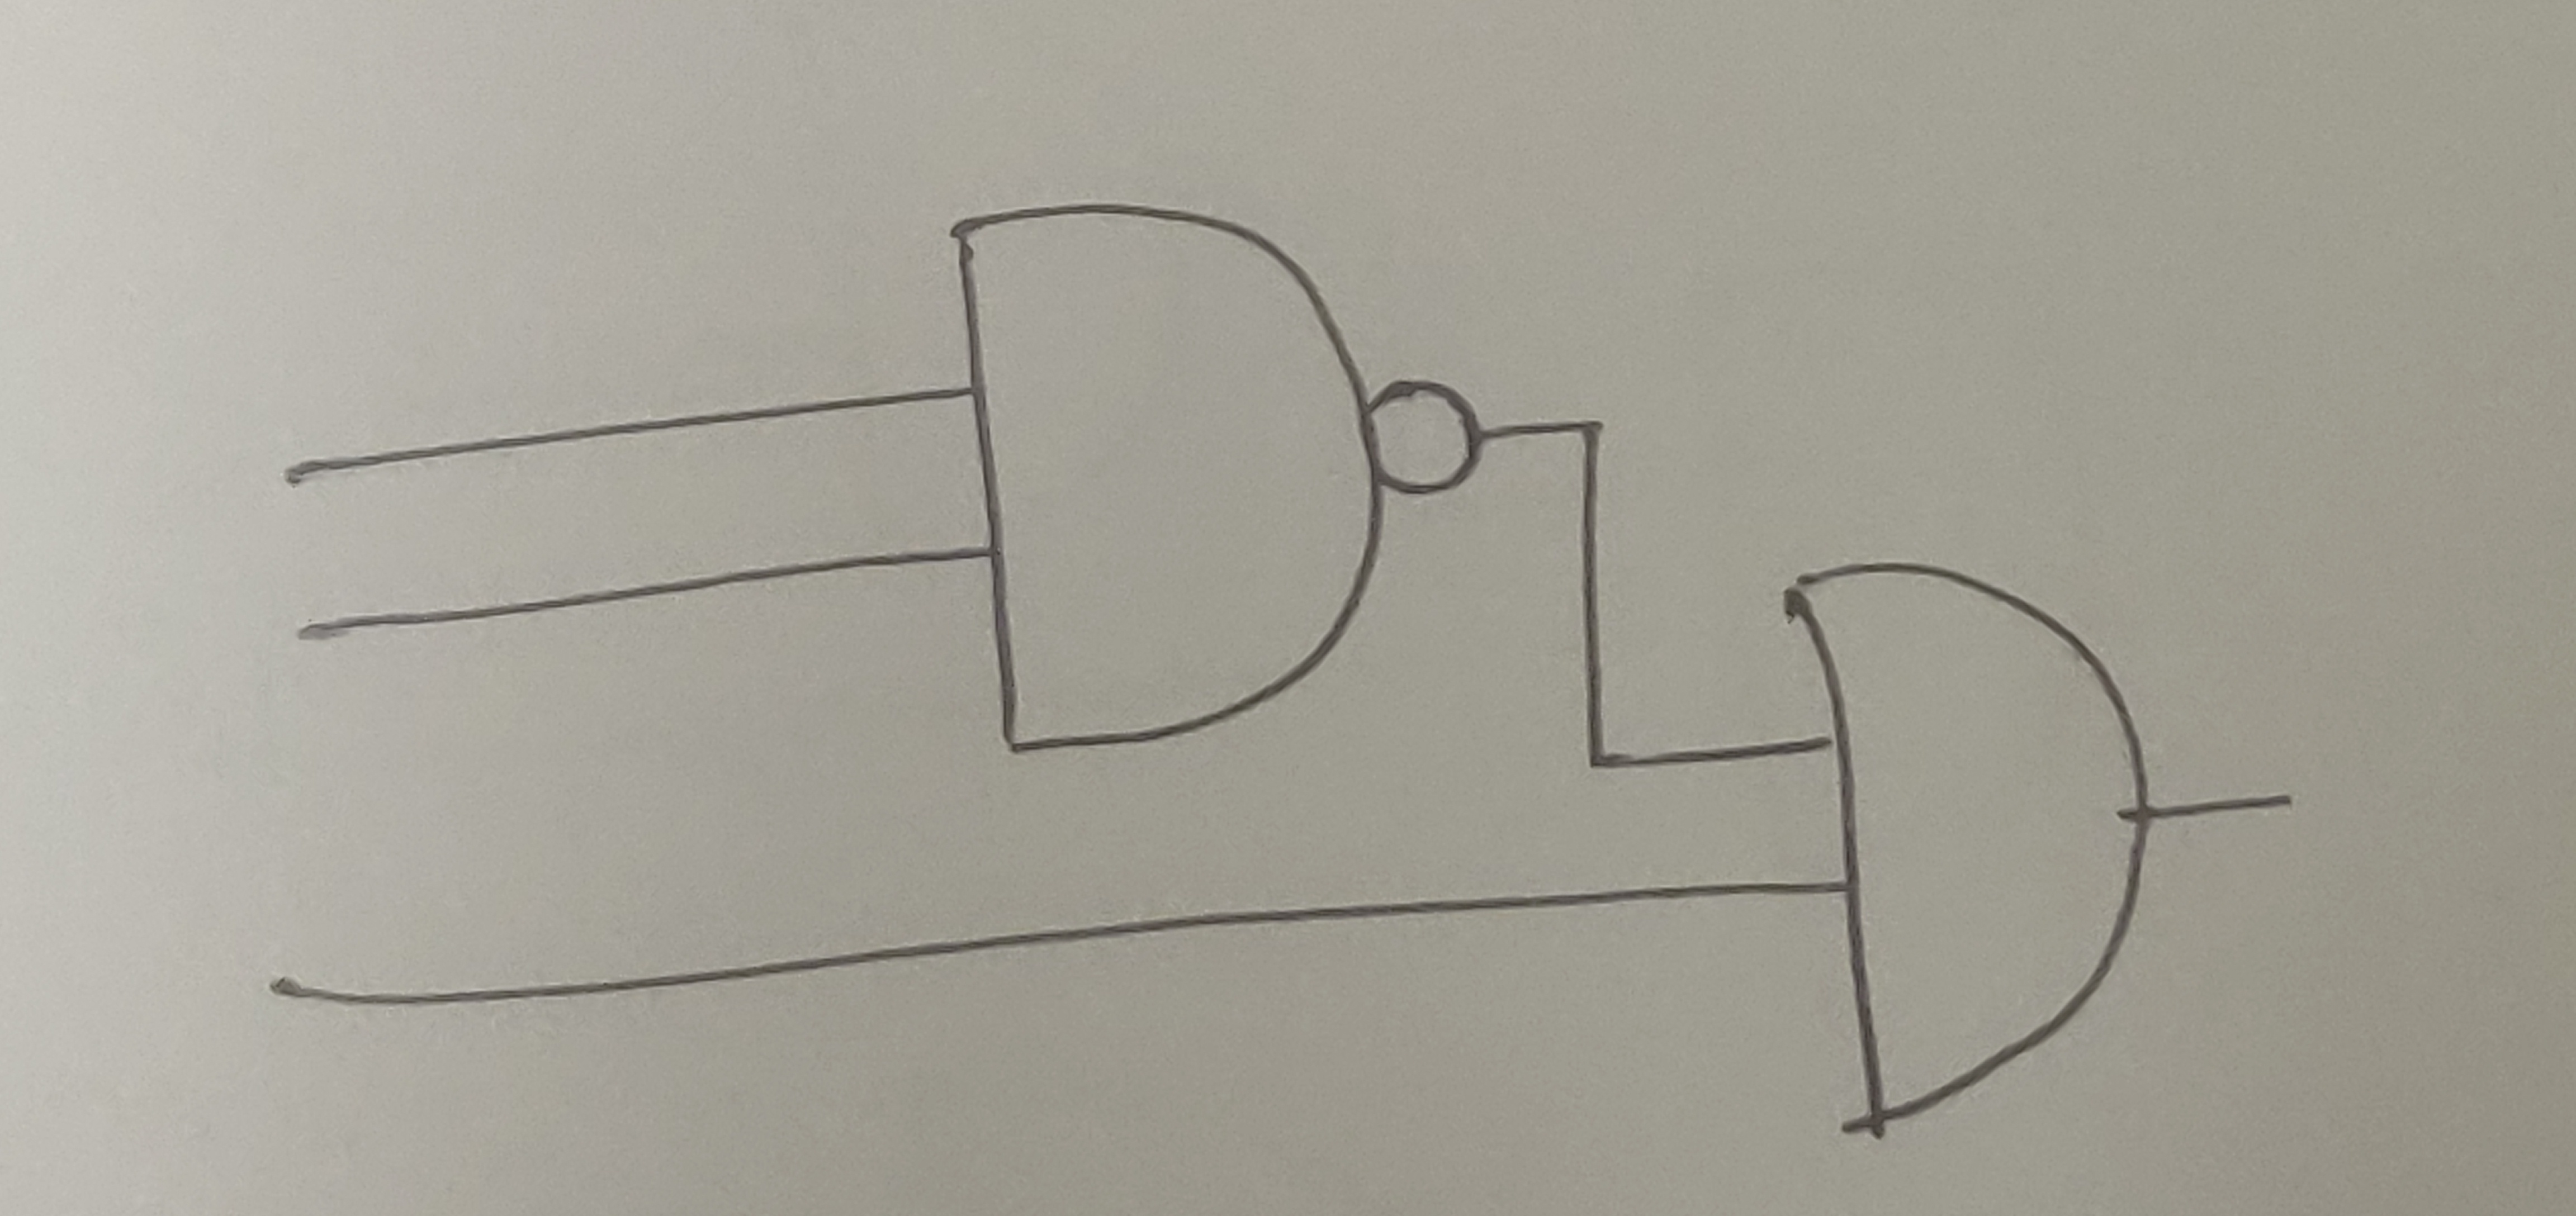and: (943, 197, 1387, 753), (1778, 565, 2159, 1134)
not: (1367, 378, 1485, 500)
